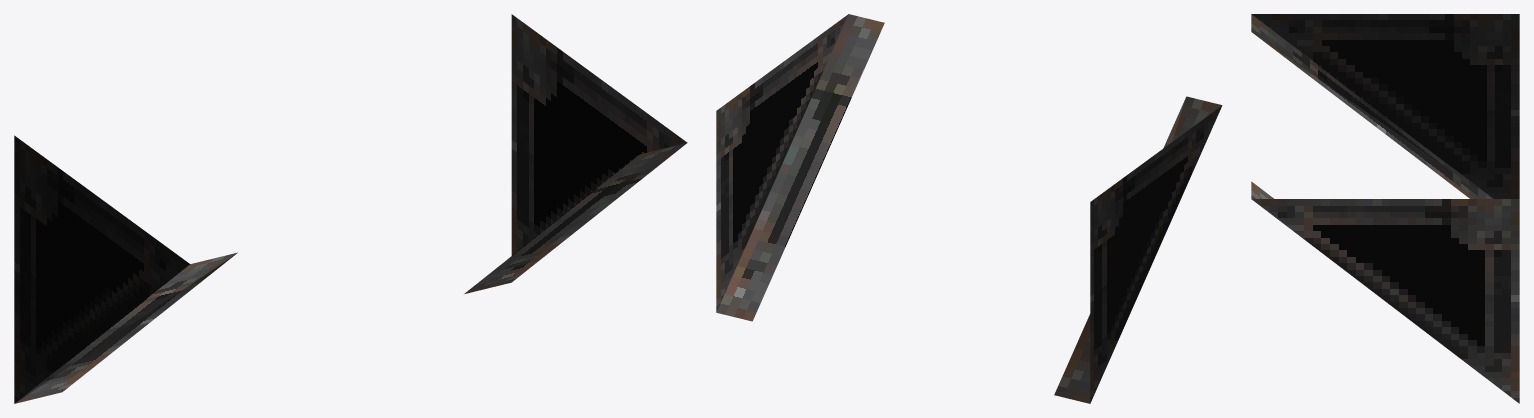
File: Dam_Alpha_24.glb
3 renders of one model, left to right at view 1: azimuth 30°, elevation 25°; view 2: azimuth 150°, elevation 25°; view 3: azimuth 270°, elevation 25°, orthographic. The views are drawn at different scales.
Visible parts, largest first — view 1: Dam_Alpha_24; view 2: Dam_Alpha_24; view 3: Dam_Alpha_24.
Part boxes in pixels (box(x1,y1,x2,y2)): Dam_Alpha_24: box(14, 14, 687, 403); Dam_Alpha_24: box(716, 14, 1222, 403); Dam_Alpha_24: box(1251, 14, 1519, 403).
Bounding box in the file's own units: 7.75 × 4 × 4.75.
1 material, 1 textured.
